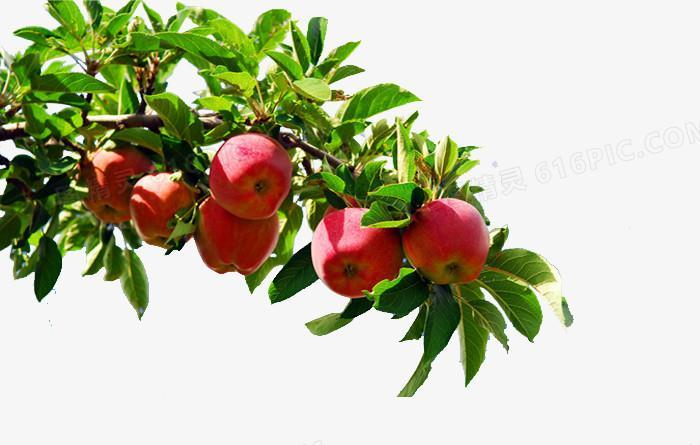apple: (310, 209, 407, 300), (402, 199, 489, 289), (206, 133, 292, 220), (195, 199, 276, 279), (78, 149, 139, 224), (134, 173, 191, 253)
